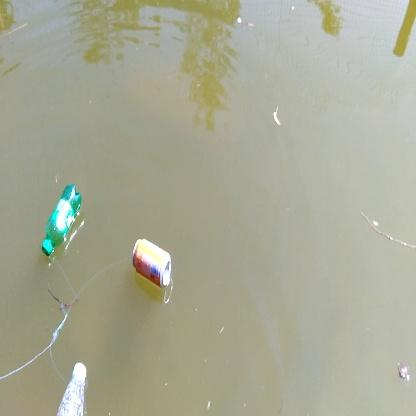can: (131, 238, 172, 287)
plastic bottle: (42, 183, 82, 254), (56, 362, 87, 416)
